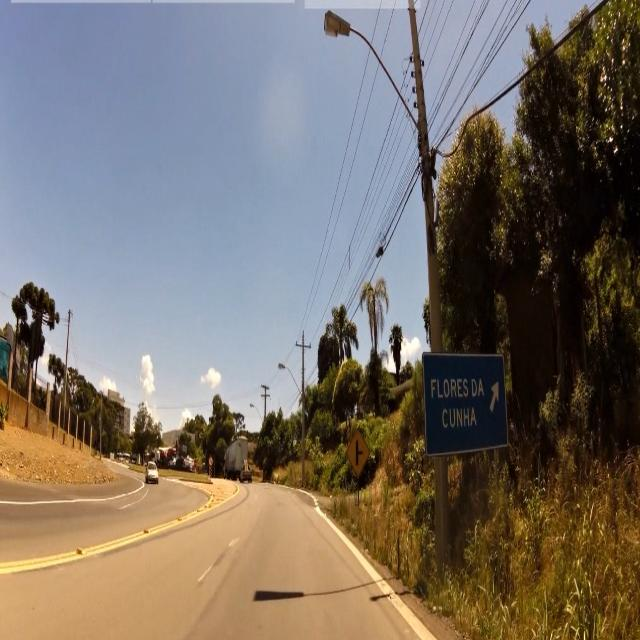A-7b: (344, 432, 370, 477)
